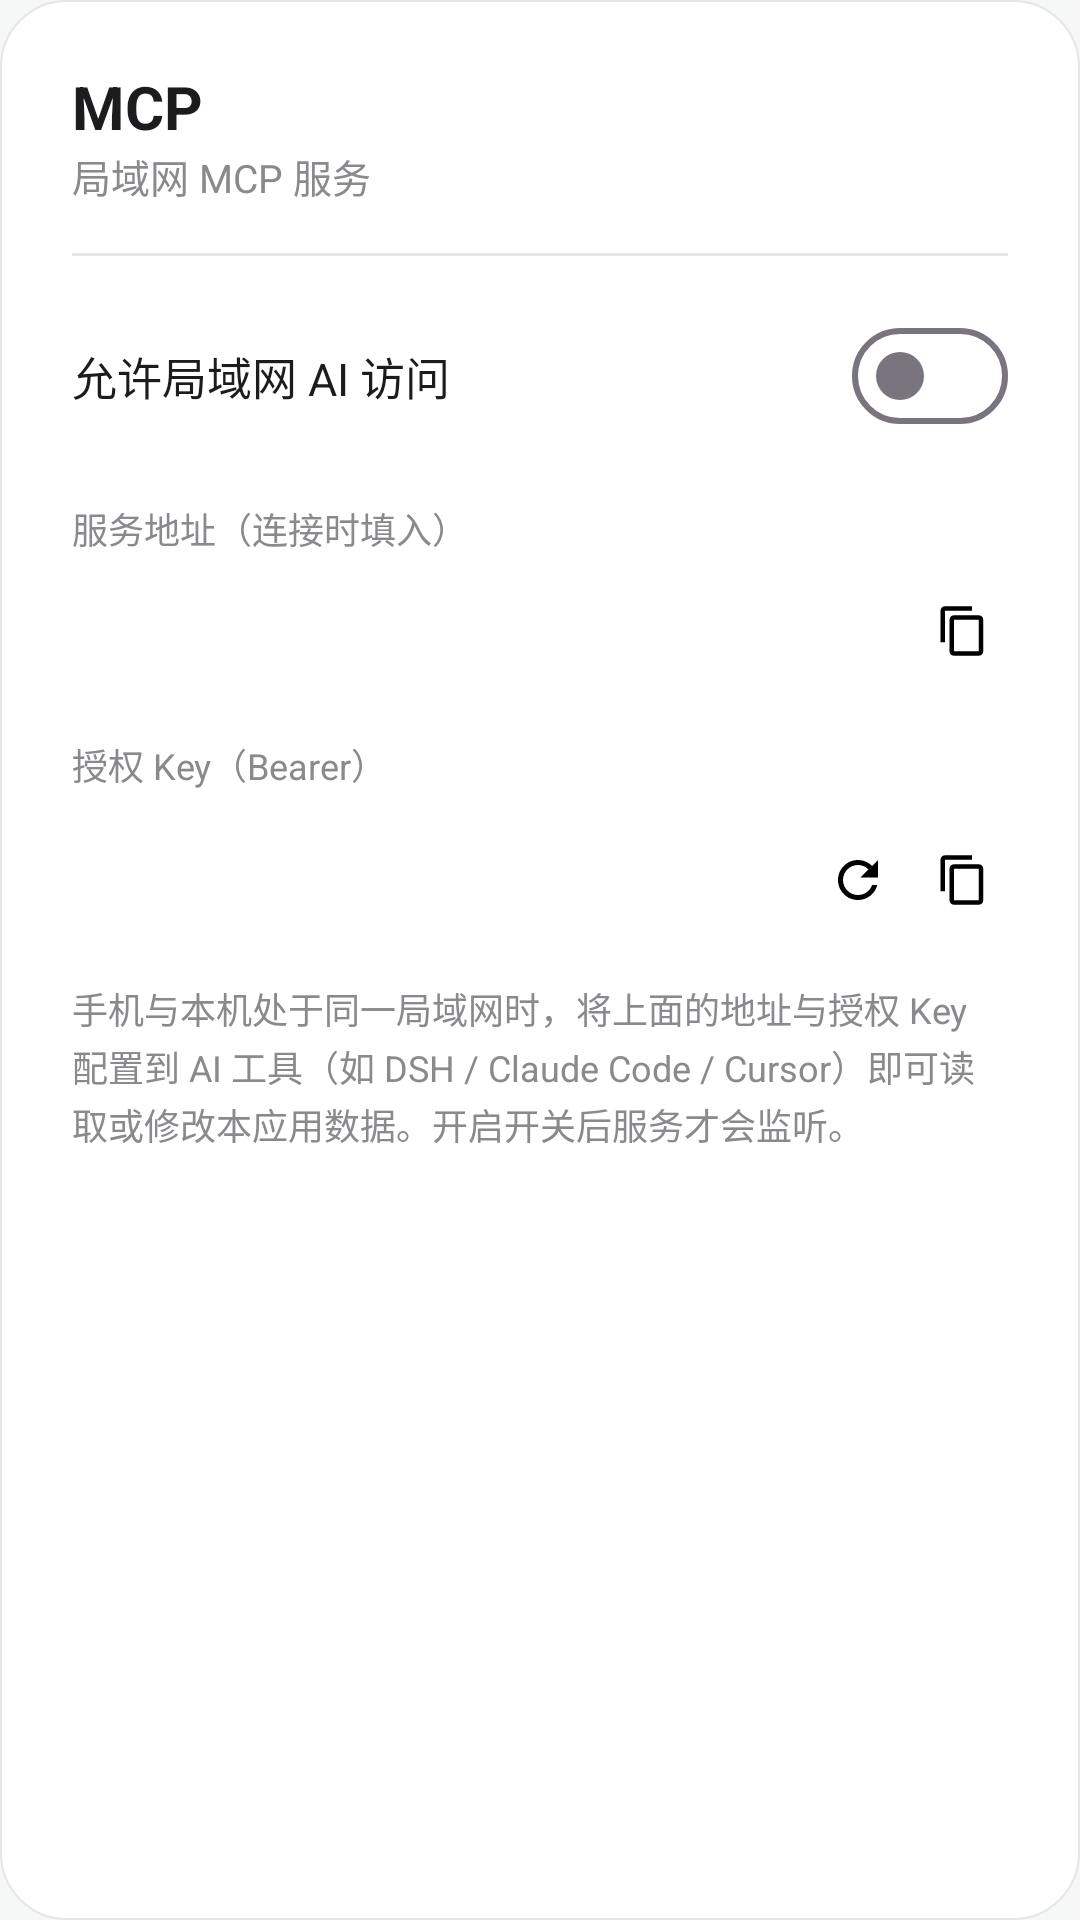

Point at icon controls on the screen. Image size 1080x1920, points as point (x, y).
刷新: point (858, 880)
复制: point (962, 631), point (962, 880)
